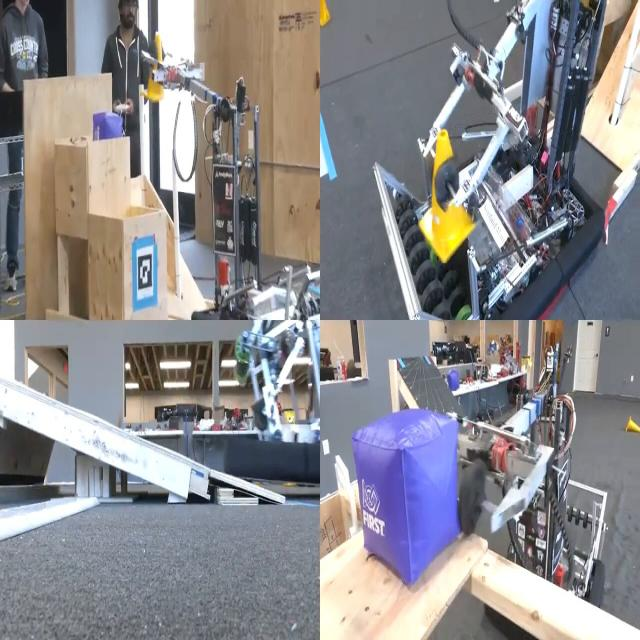frc_cone: (419, 132, 477, 269), (145, 30, 170, 104), (622, 413, 640, 438)
frc_cube: (350, 402, 462, 586), (88, 108, 132, 159), (448, 364, 460, 396)
